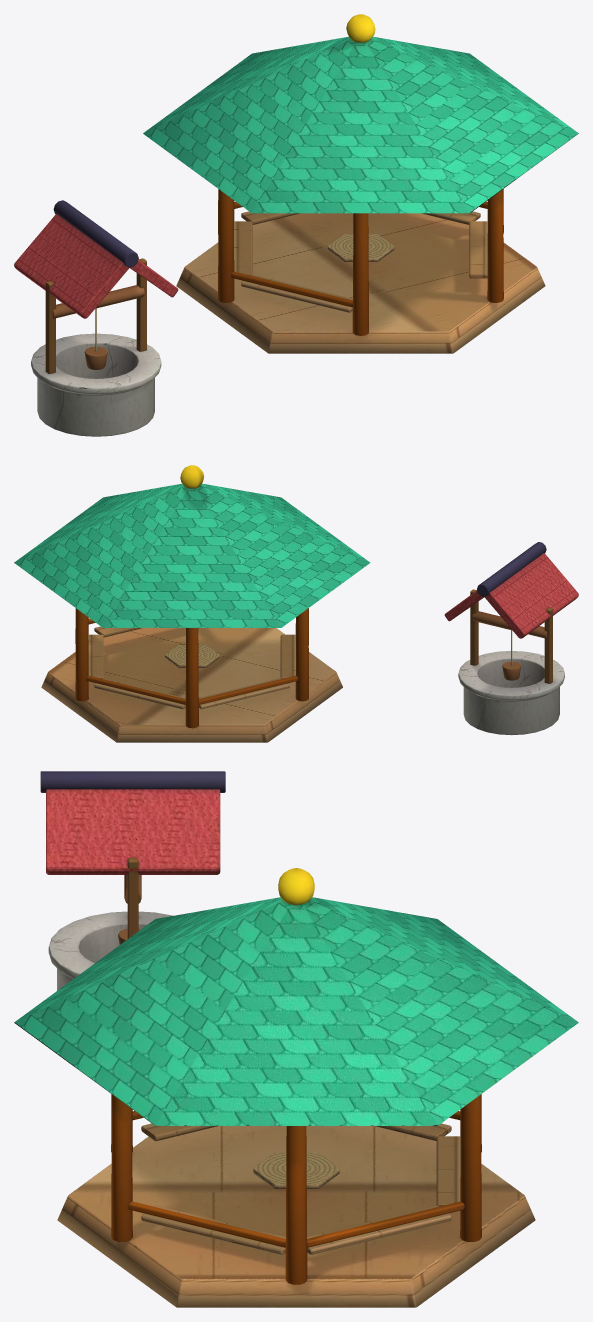
Rendered from wellRest.glb.
3 views of the same model, one above another, from view 1: azimuth 30°, elevation 25°; view 2: azimuth 150°, elevation 25°; view 3: azimuth 270°, elevation 25° (orthographic). The views are drawn at different scales.
Parts seen in each view (by area): view 1: Mesh_0; view 2: Mesh_0; view 3: Mesh_0.
Part boxes in pixels (<box>): Mesh_0: <box>14,14,578,436</box>; Mesh_0: <box>14,465,578,742</box>; Mesh_0: <box>14,771,578,1307</box>.
Bounding box in the file's own units: 15.04 × 7.1 × 10.37.
Materials: 1 (1 with a texture image).
